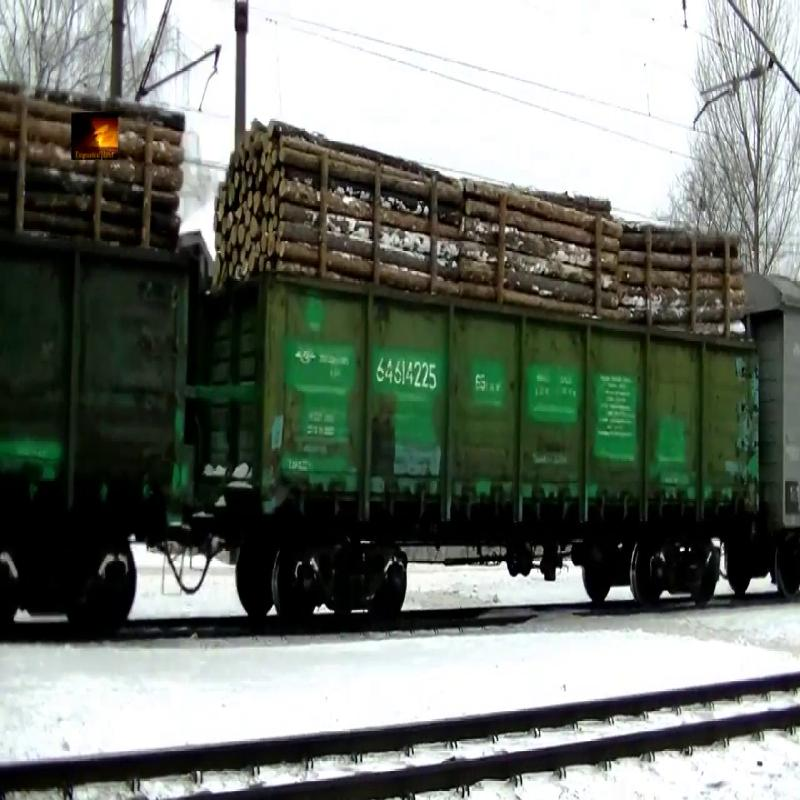train: (1, 90, 203, 611)
